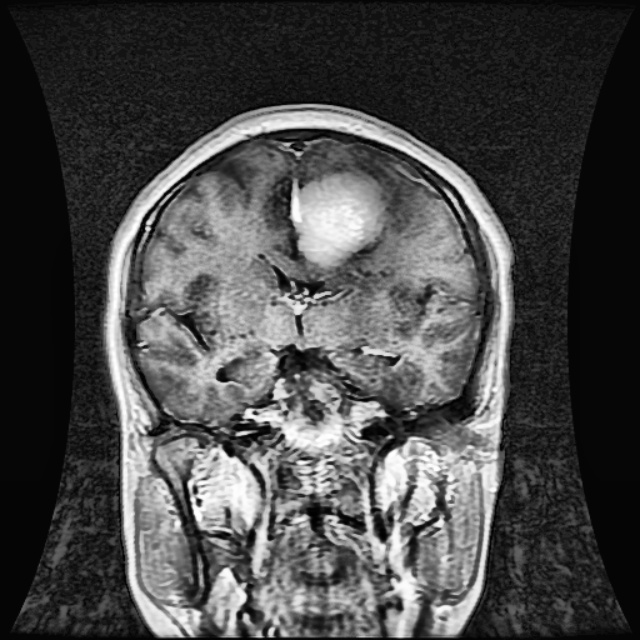Glioma: (294, 173, 384, 264)
